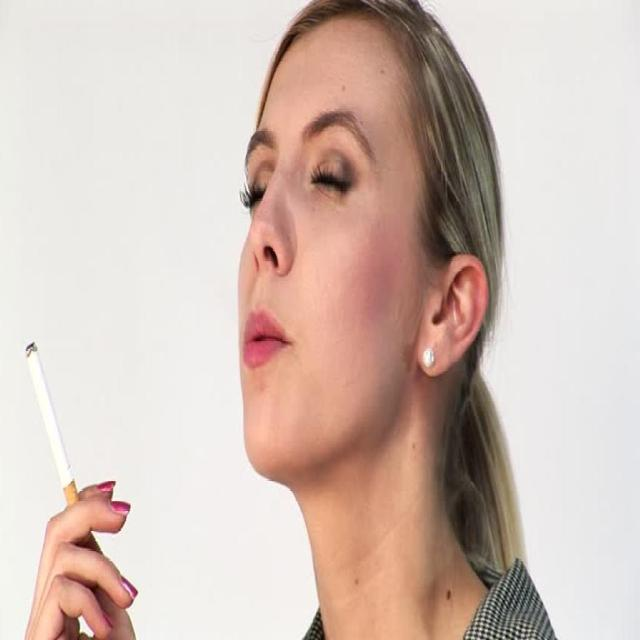smoking: (25, 2, 502, 605)
